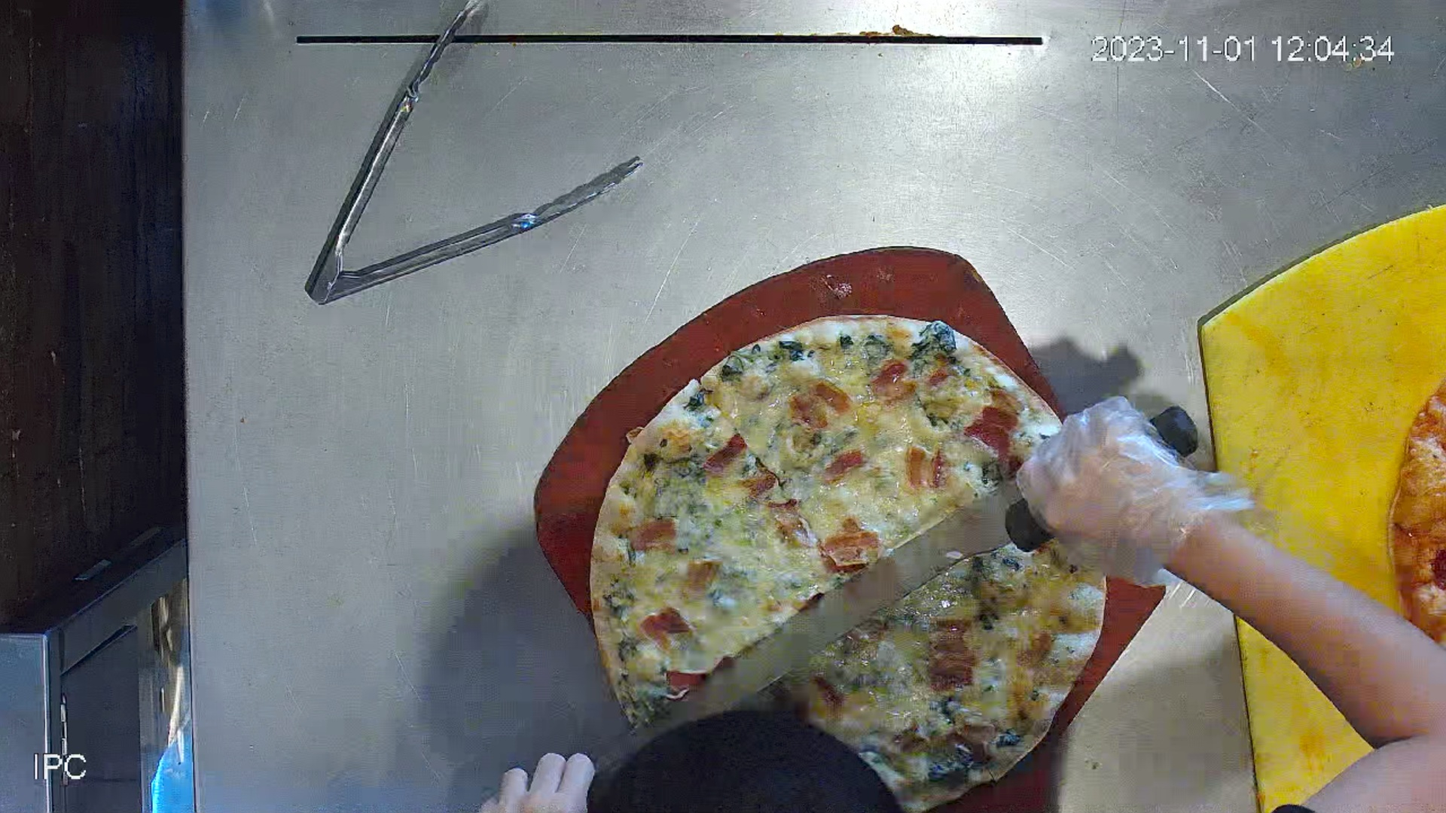pepporoni: (590, 312, 1110, 804)
